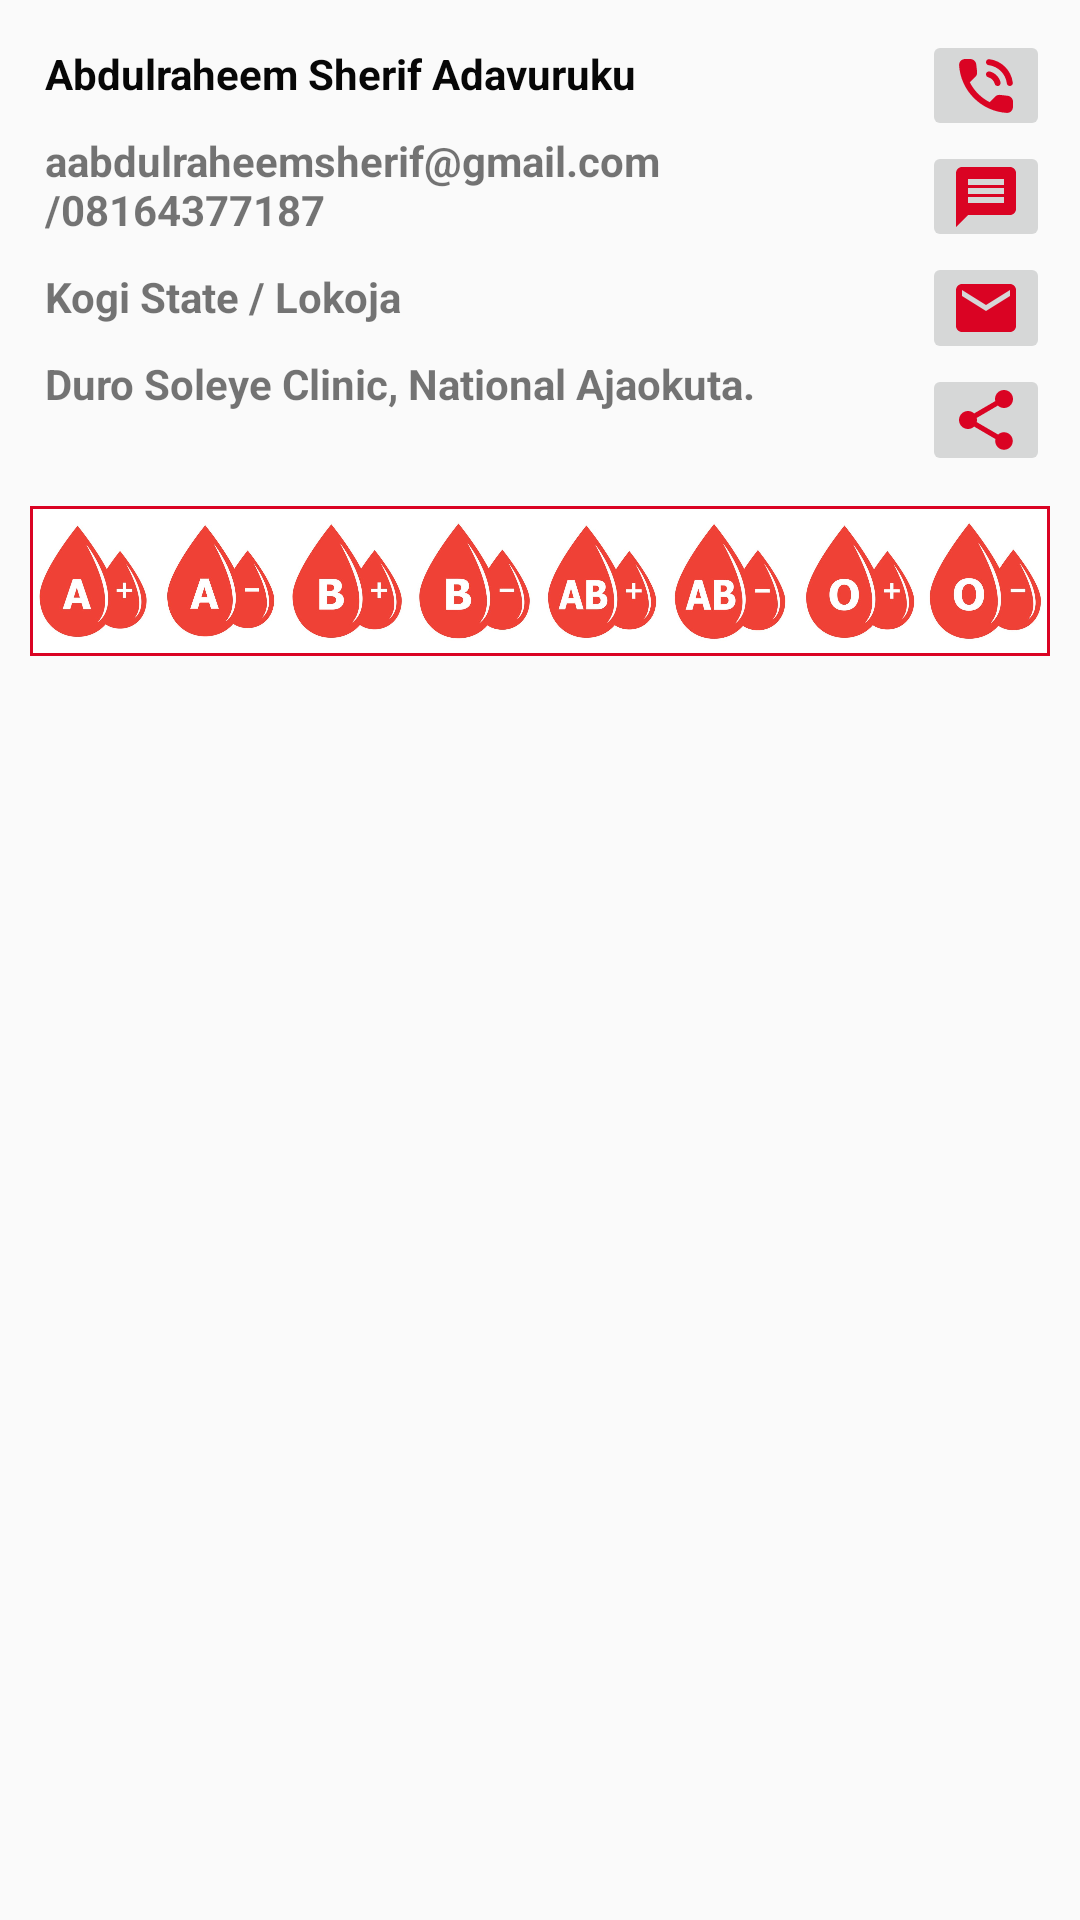

Screen size 1080*1920. Icon name, then its center in pixels as point (x, y):
email: point (986, 308)
message: point (986, 196)
phone: point (986, 85)
share: point (986, 420)
